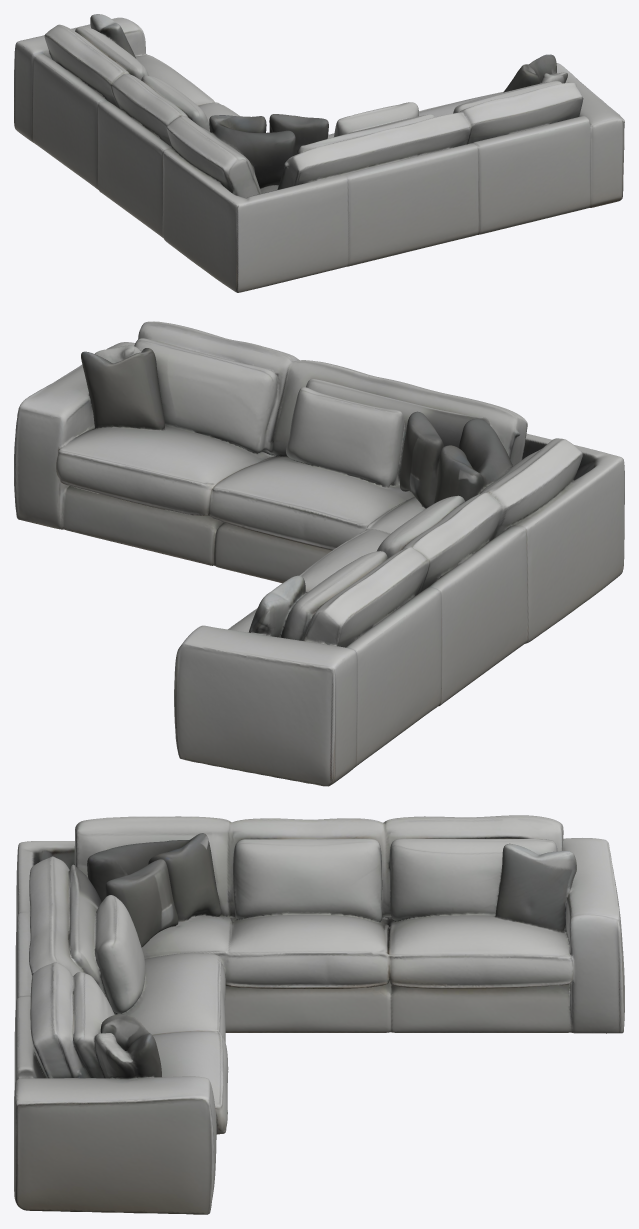
The model's file is gray-sectional-sofa.glb.
The picture shows the model from 3 angles, top to bottom: view 1: azimuth 30°, elevation 25°; view 2: azimuth 150°, elevation 25°; view 3: azimuth 270°, elevation 25°; orthographic projection. The views are drawn at different scales.
Parts seen in each view (by area): view 1: tripo_node_30f292d3-23f4-47b9-822c-b947f66e6098; view 2: tripo_node_30f292d3-23f4-47b9-822c-b947f66e6098; view 3: tripo_node_30f292d3-23f4-47b9-822c-b947f66e6098.
Part boxes in pixels (x1=…): tripo_node_30f292d3-23f4-47b9-822c-b947f66e6098: x1=14, y1=14, x2=624, y2=292; tripo_node_30f292d3-23f4-47b9-822c-b947f66e6098: x1=14, y1=321, x2=624, y2=786; tripo_node_30f292d3-23f4-47b9-822c-b947f66e6098: x1=14, y1=815, x2=624, y2=1214.
Size of the model in its own units: 0.9875 by 0.2907 by 1.
Materials: 1 (1 with a texture image).
